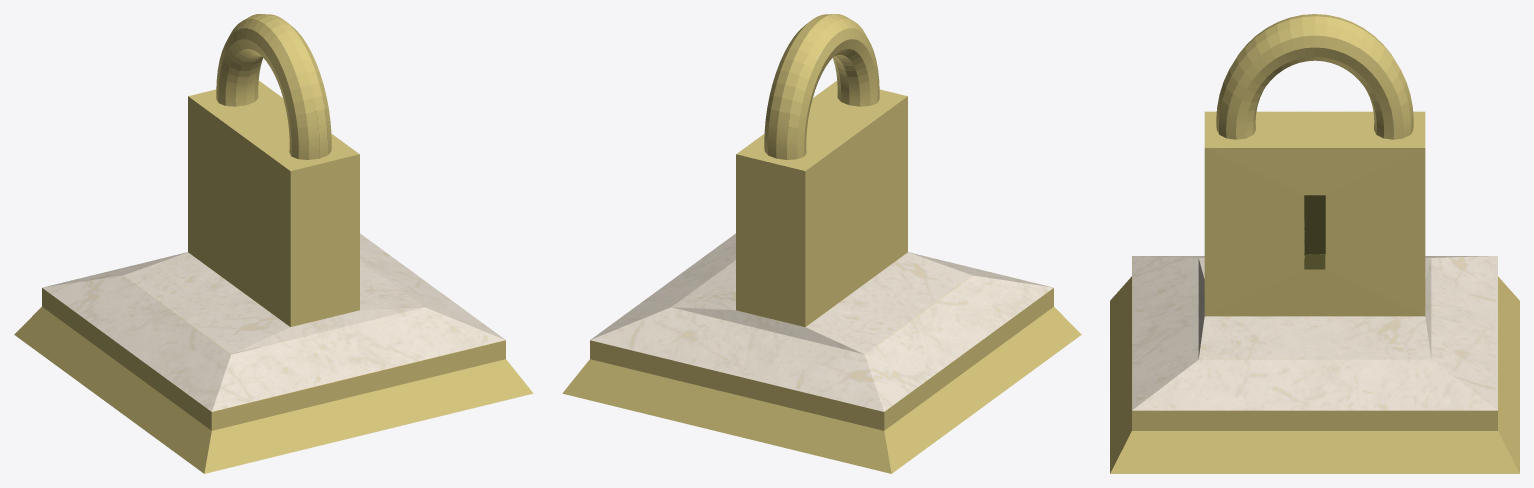
The model's file is lock.glb.
3 views of the same model, side by side, from view 1: azimuth 30°, elevation 25°; view 2: azimuth 150°, elevation 25°; view 3: azimuth 270°, elevation 25° (orthographic). The views are drawn at different scales.
Parts seen in each view (by area): view 1: Cube.001; view 2: Cube.001; view 3: Cube.001.
Boxes of the visible parts, left/top/right/bottom form: Cube.001: left=14, top=14, right=533, bottom=473; Cube.001: left=562, top=14, right=1081, bottom=473; Cube.001: left=1110, top=14, right=1519, bottom=473.
Size of the model in its own units: 1 by 1 by 1.
1 material, 1 textured.
